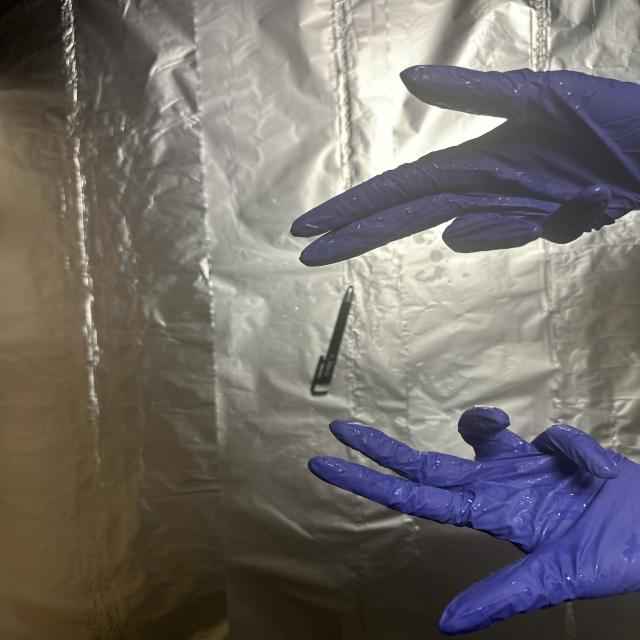gloves_contaminated: (308, 406, 640, 635), (290, 65, 640, 266)
